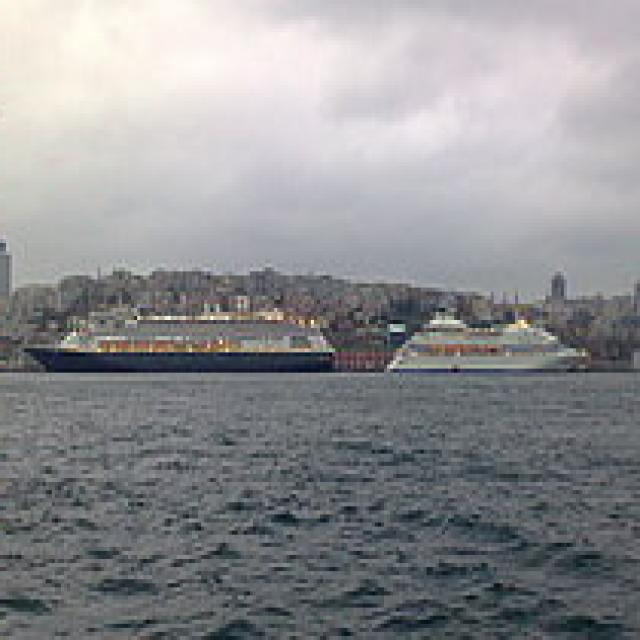Cruise: (21, 288, 342, 372), (387, 312, 594, 369)
